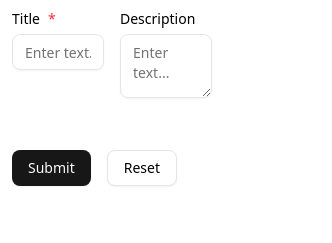
Scenario: FormBuilder › should show errors thrown from zod schema
Type "Short" into the field labelled "Title" at (58, 52), box [12, 34, 104, 70]
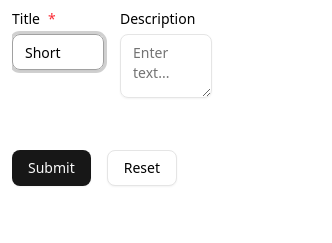
Click the button "Submit" at (51, 168), box [12, 150, 91, 186]
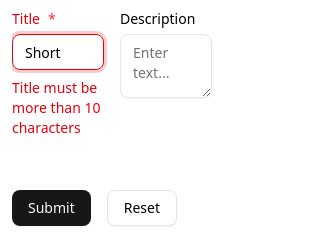
Now the text "Title must be more than 10 characters" is shown, box [12, 78, 104, 138]
